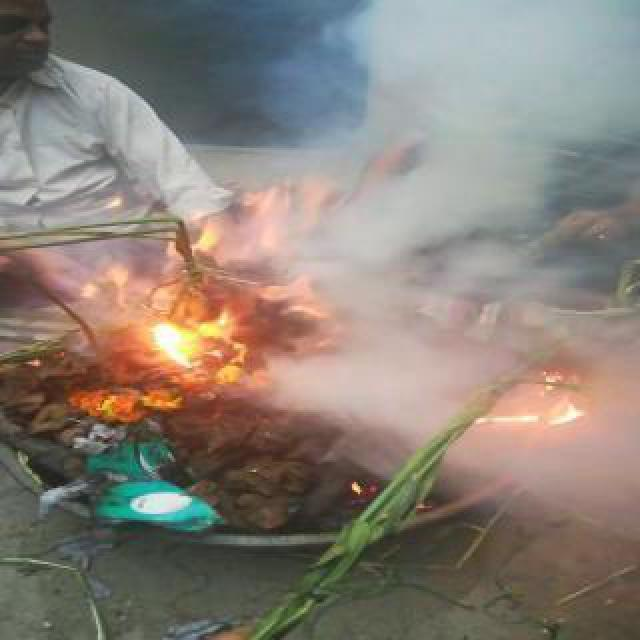Fire: (154, 180, 286, 282), (144, 314, 254, 376), (458, 390, 602, 430), (68, 254, 146, 312), (68, 386, 182, 418)
Smoke: (292, 4, 632, 376), (262, 376, 468, 488)
